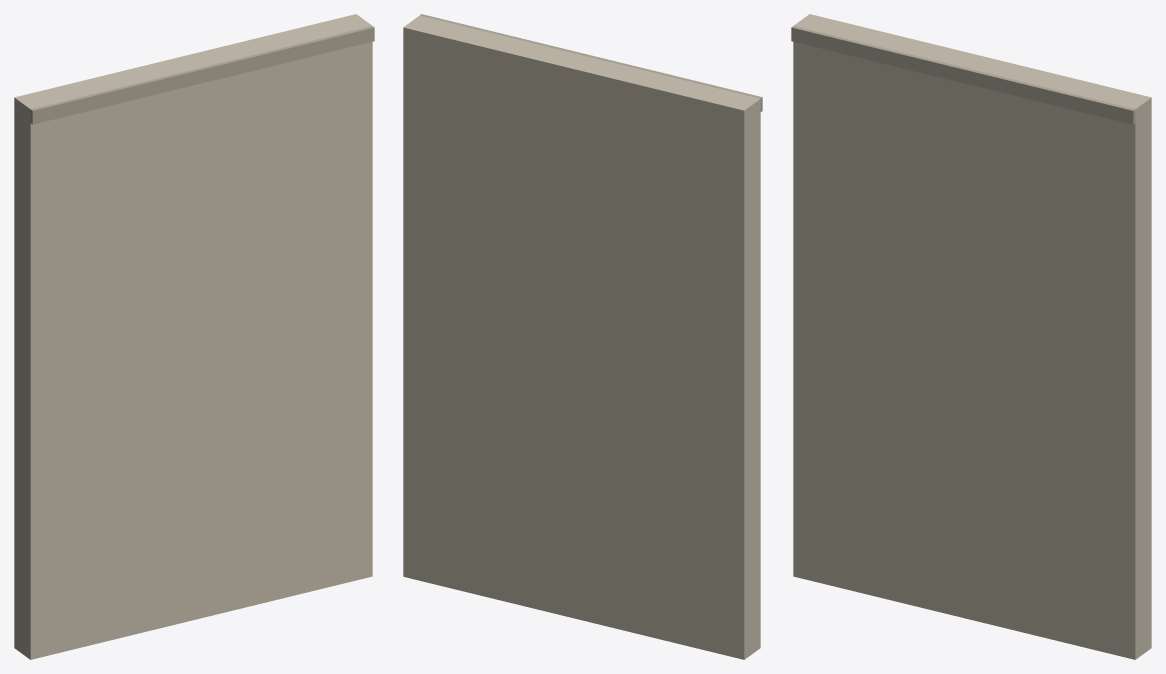
The model's file is building_bay_wall_01.glb.
3 views of the same model, side by side, from view 1: azimuth 30°, elevation 25°; view 2: azimuth 150°, elevation 25°; view 3: azimuth 330°, elevation 25° (orthographic).
Parts seen in each view (by area): view 1: building_bay_wall_01; view 2: building_bay_wall_01; view 3: building_bay_wall_01.
Boxes of the visible parts, left/top/right/bottom form: building_bay_wall_01: left=14, top=14, right=374, bottom=659; building_bay_wall_01: left=403, top=14, right=762, bottom=659; building_bay_wall_01: left=791, top=14, right=1151, bottom=659.
Bounding box in the file's own units: 1.82 × 2.8 × 0.17.
